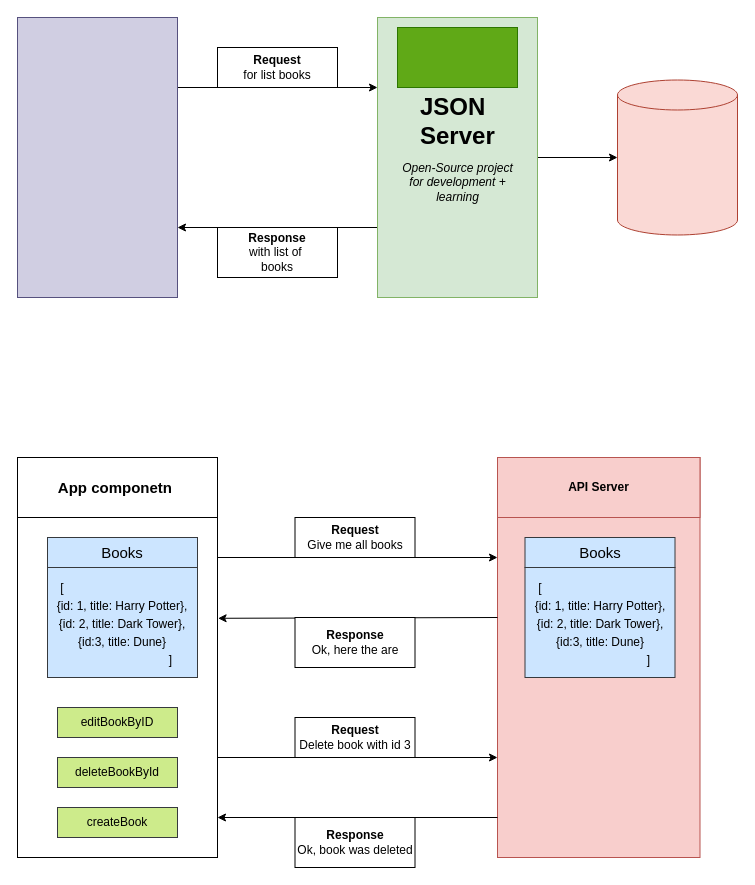
Image size: 755x885. Some labels were removed from this diagram. Here are the shapes that lost their labels. From the top down, the centre of each, then its label:
point 457,57: API
point 97,157: React App
point 677,157: Database
